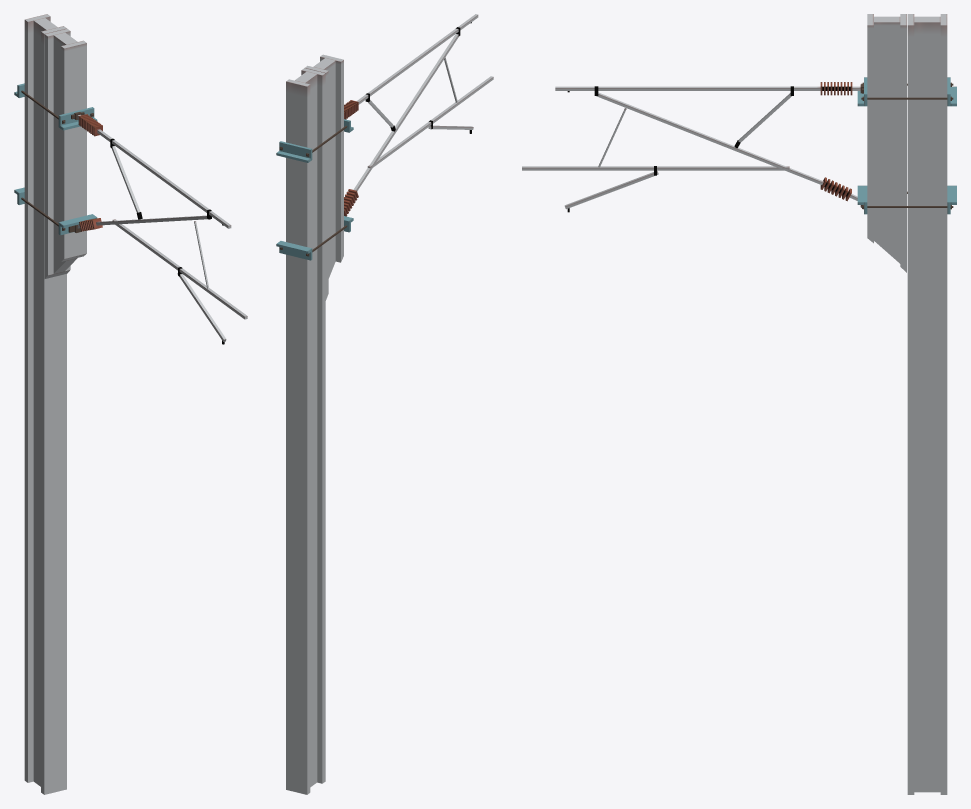
The model's file is double_column.obj.
The picture shows the model from 3 angles, left to right: view 1: azimuth 30°, elevation 25°; view 2: azimuth 150°, elevation 25°; view 3: azimuth 270°, elevation 25°; orthographic projection. The views are drawn at different scales.
Visible parts, largest first — view 1: catenary.001, catenary; view 2: catenary.001, catenary; view 3: catenary.001, catenary.
Part boxes in pixels (x1,y1,x2,y2): catenary.001: (14,14,66,794); catenary: (21,28,247,344); catenary.001: (276,68,325,794); catenary: (279,14,493,300); catenary.001: (907,14,956,794); catenary: (522,14,953,272).
Size of the model in its own units: 0.375 by 8 by 4.09.
1 material, 1 textured.
